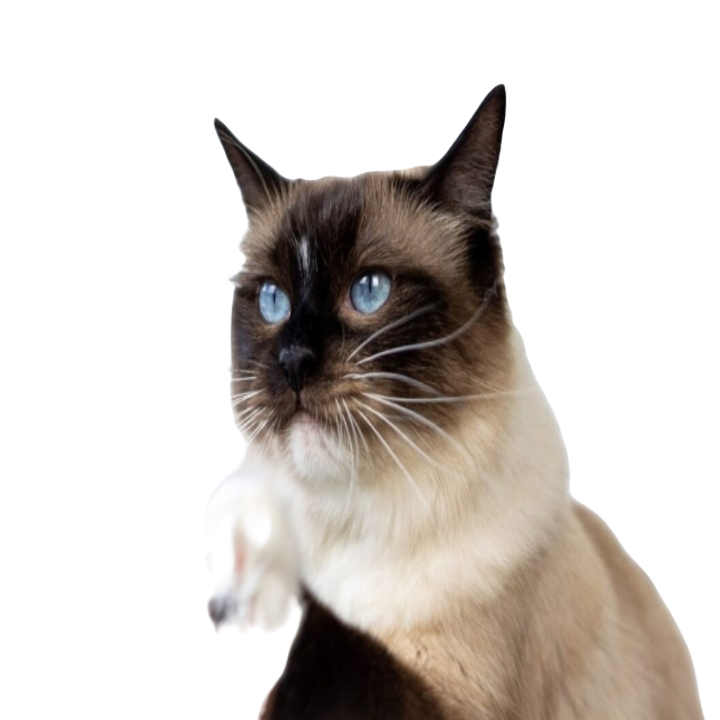Cat: (198, 84, 719, 717)
